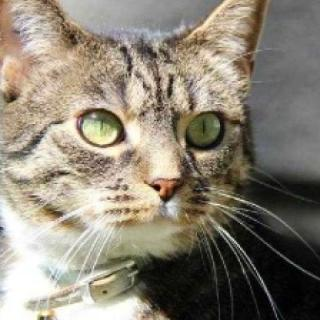cat: (0, 0, 283, 263)
nose: (143, 160, 184, 204)
